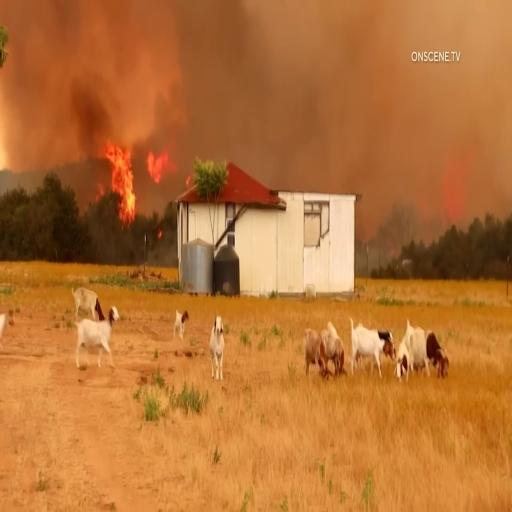fire: (101, 141, 142, 230), (142, 134, 188, 191)
smoke: (115, 7, 335, 117)
